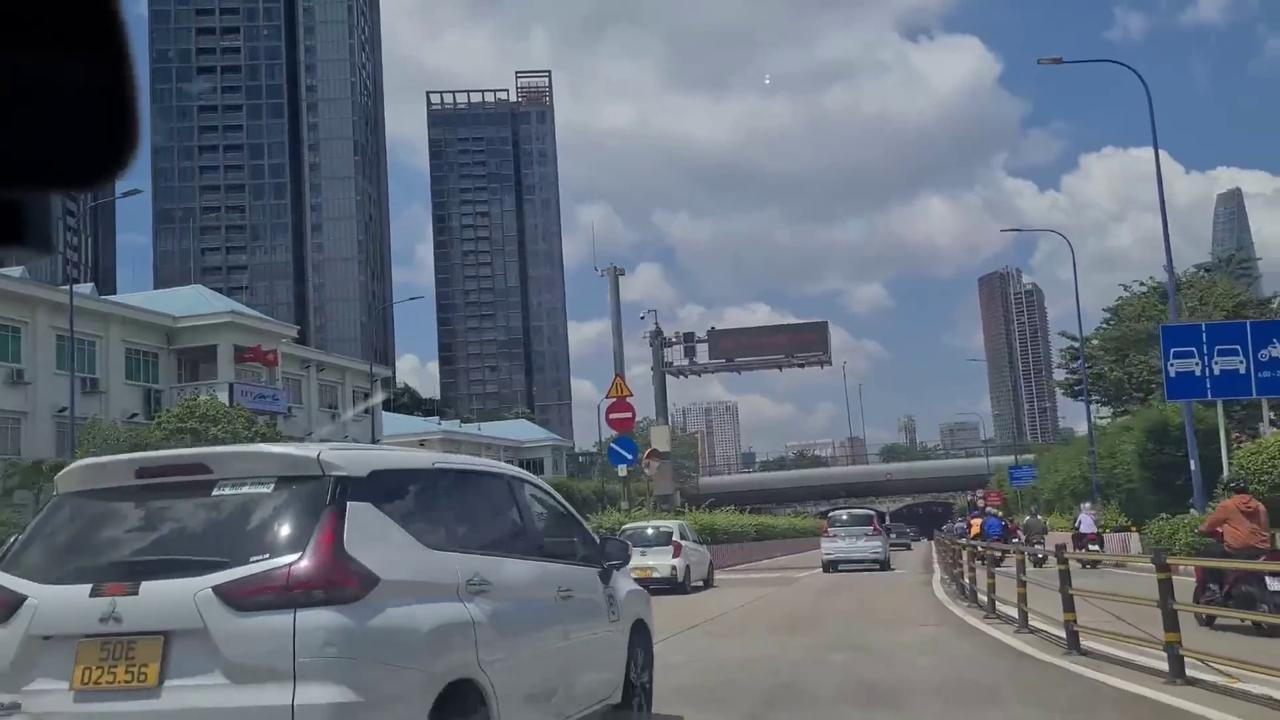Cấm đi ngược chiều: (604, 400, 637, 434)
Hướng phải đi vòng sang phải: (606, 436, 639, 469)
Làn đường cho từng xe: (1158, 320, 1278, 402)
Đuờng hẹp: (605, 373, 635, 398)
